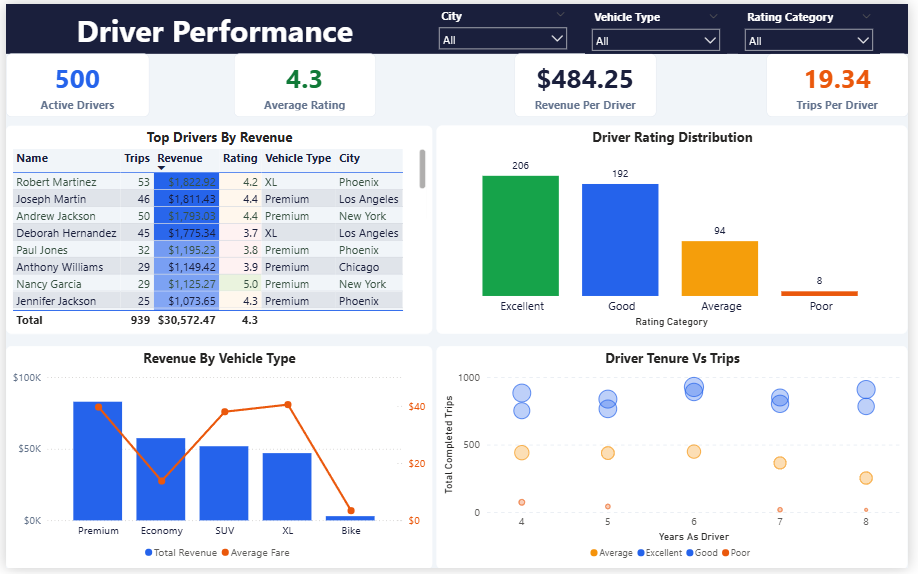

This screenshot's page, from the dashboard's own definition file:
{"tool":"powerbi","page":{"name":"Driver Performance","canvas":[1280,800],"ordinal":2},"visuals":[{"type":"shape","box":[0,0,1280.6,71],"z":0},{"type":"slicer","fields":{"Values":["locations.city"]},"box":[604.4,0,201.5,68.9],"z":1000},{"type":"card","title":"Total Trips","fields":{"Values":["Count(trips.driver_id)"]},"box":[0,70.7,203.2,90.1],"z":2000},{"type":"card","title":"Total Trips","fields":{"Values":["Avg(drivers.rating)"]},"box":[323.4,70.7,201.5,90.1],"z":3000},{"type":"card","title":"Total Trips","fields":{"Values":["_Measures (2).revenue_per_driver"]},"box":[721.1,70.7,201.5,90.1],"z":4000},{"type":"card","title":"Total Trips","fields":{"Values":["_Measures (2).trips_per_driver"]},"box":[1078.1,70.7,201.5,90.1],"z":5000},{"type":"tableEx","title":" Top Drivers By Revenue","fields":{"Values":["drivers.name","_Measures (2).total_trips","_Measures (2).total_revenue","_Measures (2).avg_driver_rating","drivers.vehicle_type","drivers.city"]},"box":[0,173.2,604.4,295.1],"z":6000},{"type":"clusteredColumnChart","title":"Driver Rating Distribution","fields":{"Category":["drivers. rating_category"],"Y":["Count(drivers.driver_id)"]},"box":[609.7,173.2,668.1,295.1],"z":7000},{"type":"lineClusteredColumnComboChart","title":"Revenue By Vehicle Type","fields":{"Category":["drivers.vehicle_type"],"Y":["_Measures (2).total_revenue"],"Y2":["_Measures (2).avg_fare_per_trip"]},"box":[0,484.3,604.4,316.4],"z":8000},{"type":"scatterChart","title":"Driver Tenure Vs Trips","fields":{"X":["drivers.years_active"],"Y":["_Measures (2).total_trips"],"Size":["_Measures (2).total_revenue"],"Series":["drivers. rating_category"]},"box":[609.7,484.3,668.1,316.4],"z":9000},{"type":"slicer","fields":{"Values":["drivers.vehicle_type"]},"box":[821.8,1.8,201.5,68.9],"z":10000},{"type":"slicer","fields":{"Values":["drivers. rating_category"]},"box":[1039.2,1.8,201.5,68.9],"z":11000}]}

Visuals, with their boxes in screenshot pixels (x1, y1, x2, y2), scaled from the page's 1280x800 canvas onto the 918x574 screenshot:
shape: pyautogui.locateOnScreen(0, 0, 917, 51)
slicer - locations.city: pyautogui.locateOnScreen(433, 0, 578, 49)
"Total Trips" card: pyautogui.locateOnScreen(0, 51, 146, 115)
"Total Trips" card: pyautogui.locateOnScreen(232, 51, 376, 115)
"Total Trips" card: pyautogui.locateOnScreen(517, 51, 662, 115)
"Total Trips" card: pyautogui.locateOnScreen(773, 51, 917, 115)
" Top Drivers By Revenue" tableEx: pyautogui.locateOnScreen(0, 124, 433, 336)
"Driver Rating Distribution" clusteredColumnChart: pyautogui.locateOnScreen(437, 124, 916, 336)
"Revenue By Vehicle Type" lineClusteredColumnComboChart: pyautogui.locateOnScreen(0, 347, 433, 573)
"Driver Tenure Vs Trips" scatterChart: pyautogui.locateOnScreen(437, 347, 916, 573)
slicer - drivers.vehicle_type: pyautogui.locateOnScreen(589, 1, 734, 51)
slicer - drivers. rating_category: pyautogui.locateOnScreen(745, 1, 890, 51)
